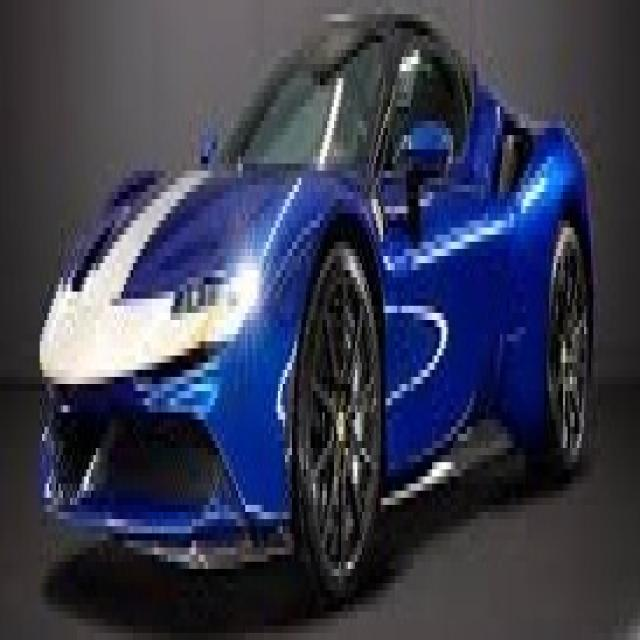blue: (34, 6, 596, 591)
